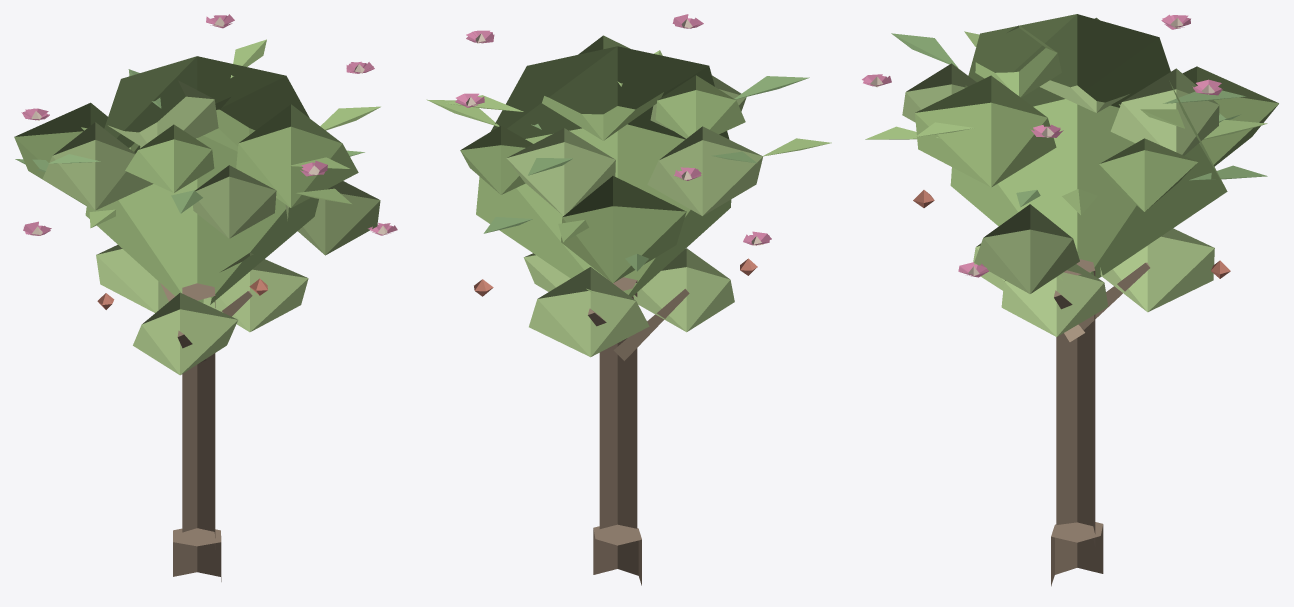
File: shu.yinxing__bloom.glb
3 views of the same model, side by side, from view 1: azimuth 30°, elevation 25°; view 2: azimuth 150°, elevation 25°; view 3: azimuth 270°, elevation 25° (orthographic). The views are drawn at different scales.
Visible parts, largest first — view 1: shu.yinxing__bloom; view 2: shu.yinxing__bloom; view 3: shu.yinxing__bloom.
Part boxes in pixels (x1,y1,x2,y2): shu.yinxing__bloom: (14,14,397,581); shu.yinxing__bloom: (426,14,831,585); shu.yinxing__bloom: (862,14,1278,586).
Bounding box in the file's own units: 10 × 14.35 × 9.65.
